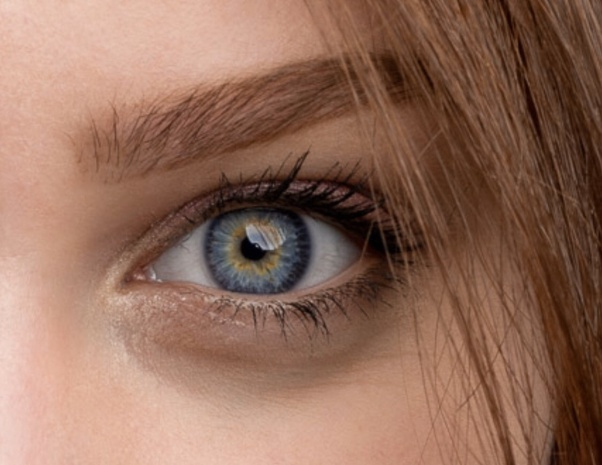iris: (202, 200, 311, 295)
pupil: (239, 229, 269, 262)
